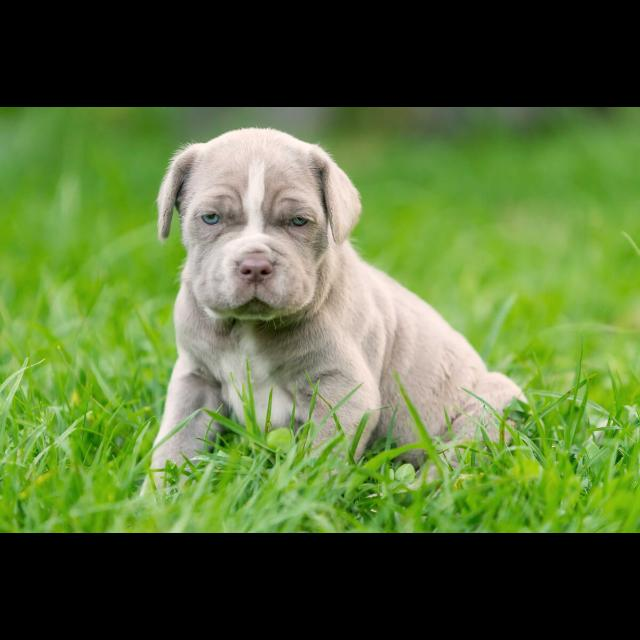mastino_napoletano: (140, 126, 531, 502)
